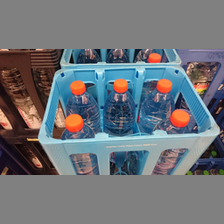water: (149, 110, 190, 173), (61, 116, 98, 173), (64, 78, 102, 129), (103, 78, 137, 135), (139, 76, 174, 131)
